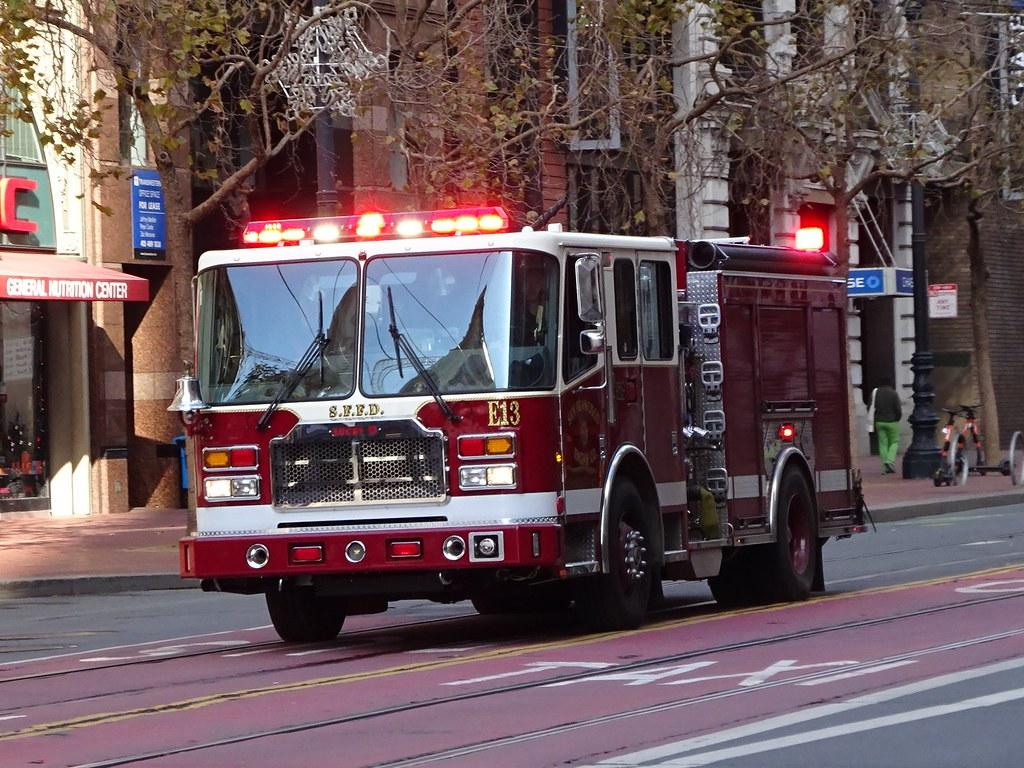firetruck_on: (169, 205, 869, 643)
